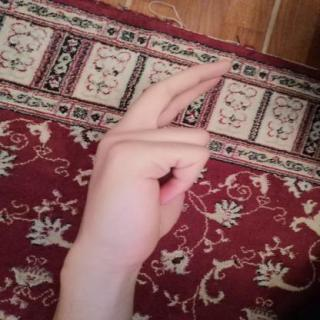ZAY: (54, 52, 248, 280)
